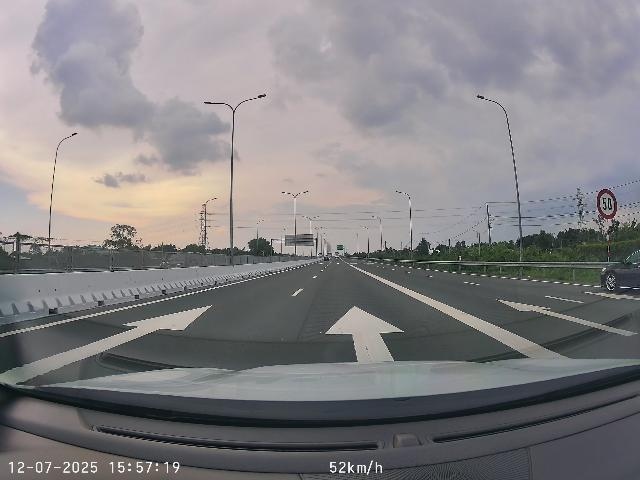127-toc-do-toi-da-50: (596, 188, 617, 220)
